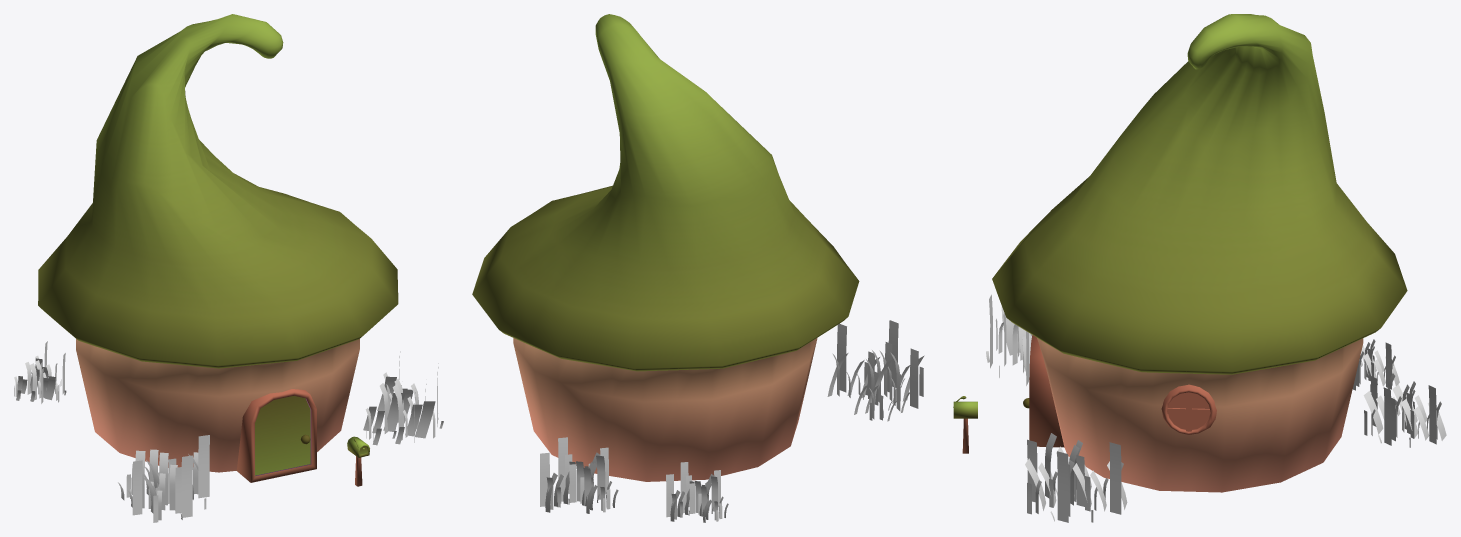
Rendered from house_green.fbx.
The picture shows the model from 3 angles, left to right: view 1: azimuth 30°, elevation 25°; view 2: azimuth 150°, elevation 25°; view 3: azimuth 270°, elevation 25°; orthographic projection. The views are drawn at different scales.
Parts seen in each view (by area): view 1: Sphere.004; view 2: Sphere.004; view 3: Sphere.004.
Part boxes in pixels (<box>): Sphere.004: <box>14,14,443,522</box>; Sphere.004: <box>472,14,924,522</box>; Sphere.004: <box>953,14,1446,522</box>.
Size of the model in its own units: 1655 by 1898 by 1934.
